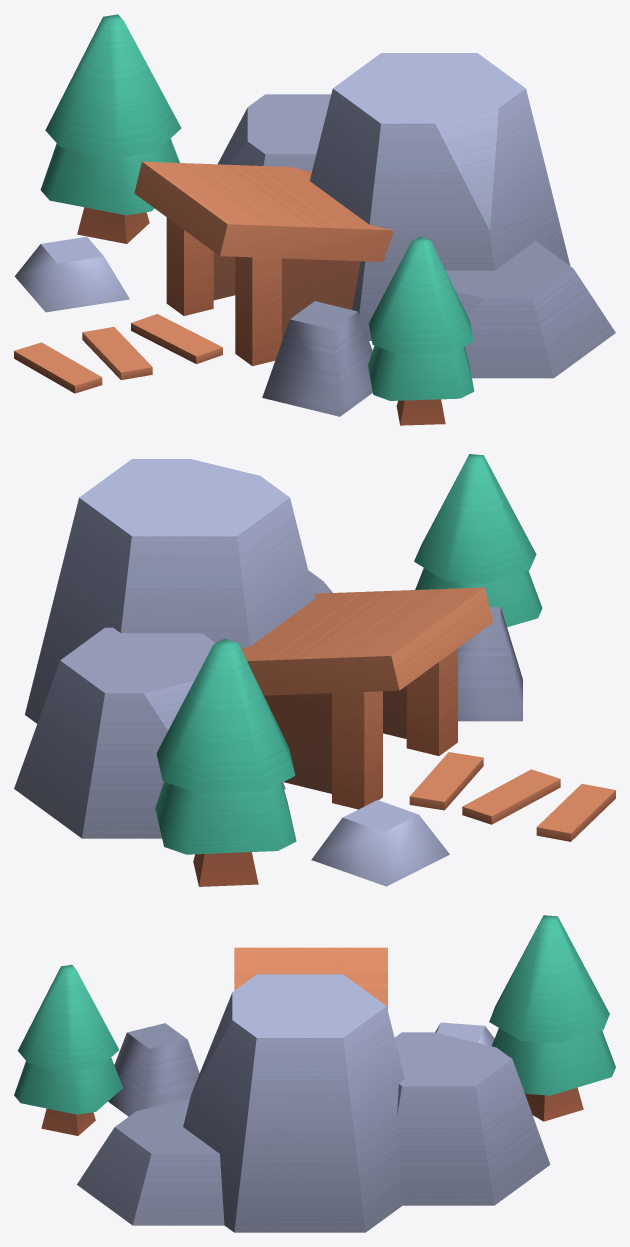
The model's file is hx_building-mine.glb.
3 renders of one model, top to bottom at view 1: azimuth 30°, elevation 25°; view 2: azimuth 150°, elevation 25°; view 3: azimuth 270°, elevation 25°, orthographic. The views are drawn at different scales.
Size of the model in its own units: 0.833 by 0.3382 by 0.9792.
Materials: 1 (1 with a texture image).
